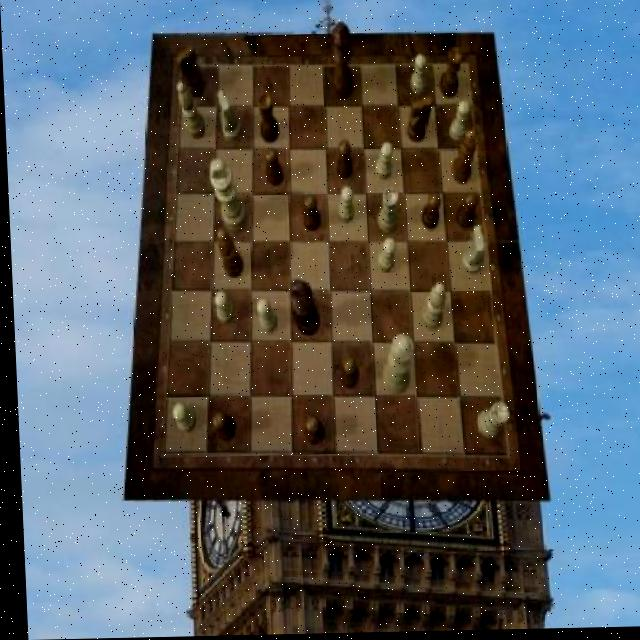bishop: (448, 131, 476, 186), (214, 229, 241, 281)
black-bishop: (284, 281, 316, 337)
black-king: (174, 47, 203, 100), (404, 99, 431, 145)
black-knight: (452, 194, 476, 231), (418, 194, 439, 232), (208, 412, 233, 443), (262, 149, 281, 187), (333, 142, 351, 181), (300, 196, 319, 232), (335, 359, 355, 392), (299, 418, 320, 446)
black-pawn: (327, 23, 353, 102)
black-queen: (437, 50, 464, 100), (256, 95, 278, 147)
black-rook: (175, 83, 205, 142), (416, 285, 443, 333)
white-bishop: (208, 159, 247, 233)
white-king: (216, 90, 241, 144), (457, 227, 482, 277)
white-knight: (447, 103, 470, 145), (372, 144, 393, 182), (408, 57, 427, 97), (254, 300, 275, 336), (210, 292, 232, 326), (168, 403, 192, 434), (333, 186, 351, 224), (374, 240, 394, 274)
white-pawn: (375, 336, 411, 397)
white-queen: (472, 404, 506, 442), (374, 188, 398, 234)
